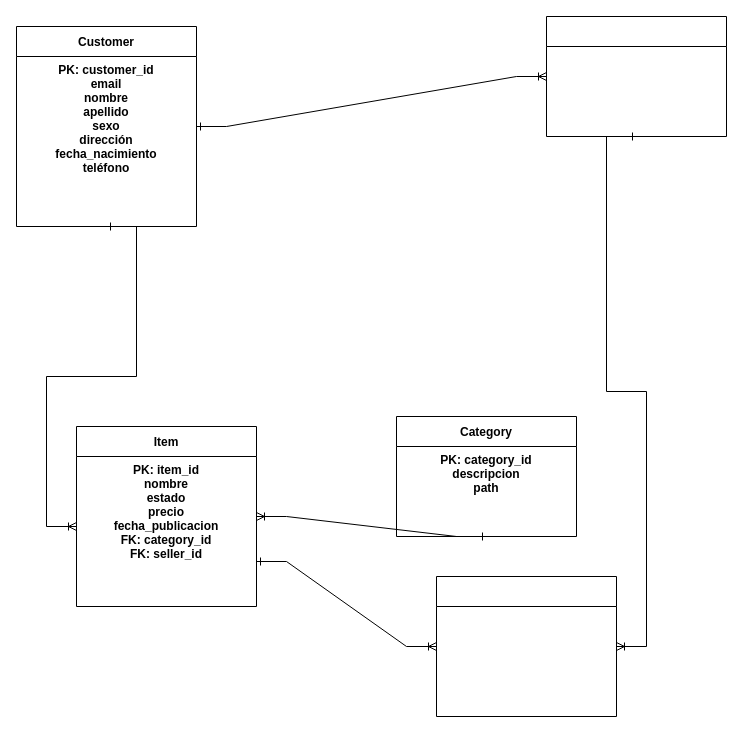
Some shapes in this 743 by 733 pixel diagram are drawn without their labels. Here are the shapes that lost their labels. From the top down, the box of each, then its label:
(546, 16, 726, 136): Order PK: order_id FK: customer_id order_date
(436, 576, 616, 716): Order_Item PK: order_item_id FK: order_id FK: item_id quantity unit_price
